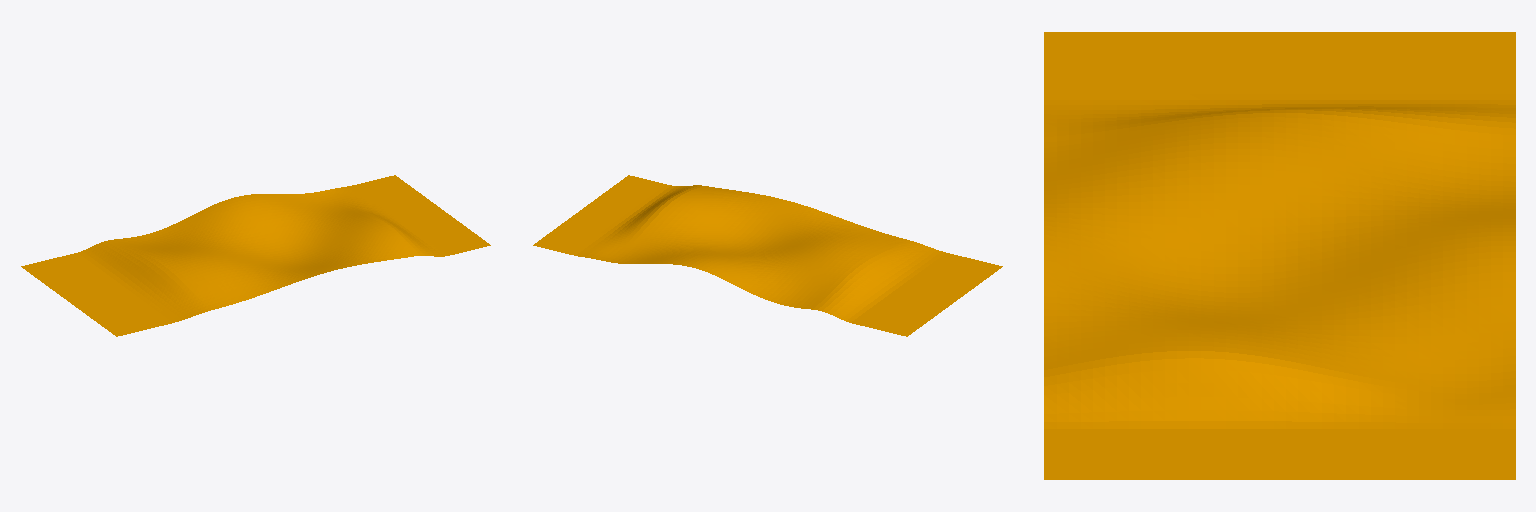
robot.urdf — hill_14:
<?xml version='1.0' encoding='UTF-8'?>
<robot name="hill_14">
  <link name="terrain_link">
    <inertial>
      <origin xyz="0 0 0" rpy="0 0 0"/>
      <mass value="1.0"/>
      <inertia ixx="1.0" ixy="0.0" ixz="0.0" iyy="1.0" iyz="0.0" izz="1.0"/>
    </inertial>
    <visual name="terrain_visual">
      <geometry>
        <mesh filename="hill_14.obj" scale="1 1 1"/>
      </geometry>
      <origin xyz="0 0 0" rpy="0 0 0"/>
    </visual>
    <collision name="terrain_collision">
      <geometry>
        <mesh filename="hill_14.obj" scale="1 1 1"/>
      </geometry>
      <origin xyz="0 0 0" rpy="0 0 0"/>
    </collision>
  </link>
</robot>

--- What the picture shows (computed from the rendered views, not written in the file) ---
The picture shows the robot from 3 angles, left to right: view 1: azimuth 30°, elevation 25°; view 2: azimuth 150°, elevation 25°; view 3: azimuth 270°, elevation 25°; orthographic projection.
Model hill_14 with 1 links and 0 joints (none), rooted at terrain_link, posed all joints at 0.
Visible links, largest first — view 1: terrain_link; view 2: terrain_link; view 3: terrain_link.
Link boxes in pixels (x1,y1,x2,y2): terrain_link: [21, 175, 490, 336]; terrain_link: [533, 175, 1002, 336]; terrain_link: [1044, 32, 1515, 479].
Bounding box of the posed robot: 54 × 24 × 2.32 m (x, y, z).
1 mesh visuals loaded from 1 distinct referenced files (1 OBJ).
